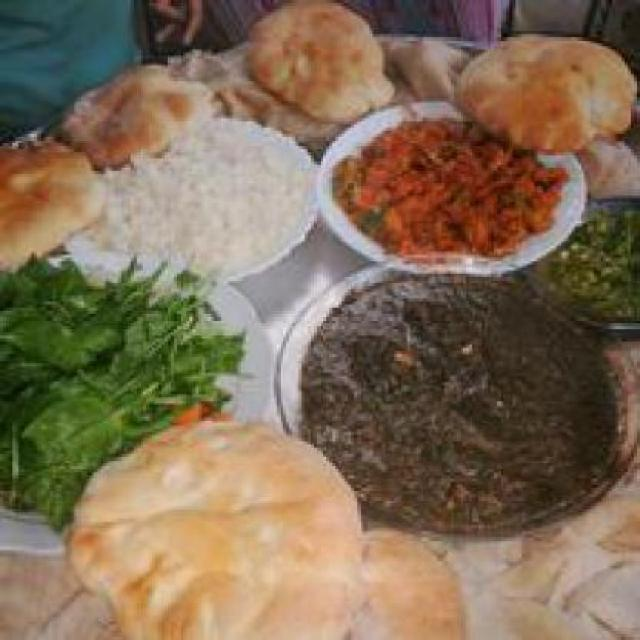eggplant: (332, 102, 563, 242)
fried rice: (93, 124, 312, 264)
molokhia: (299, 249, 603, 516)
